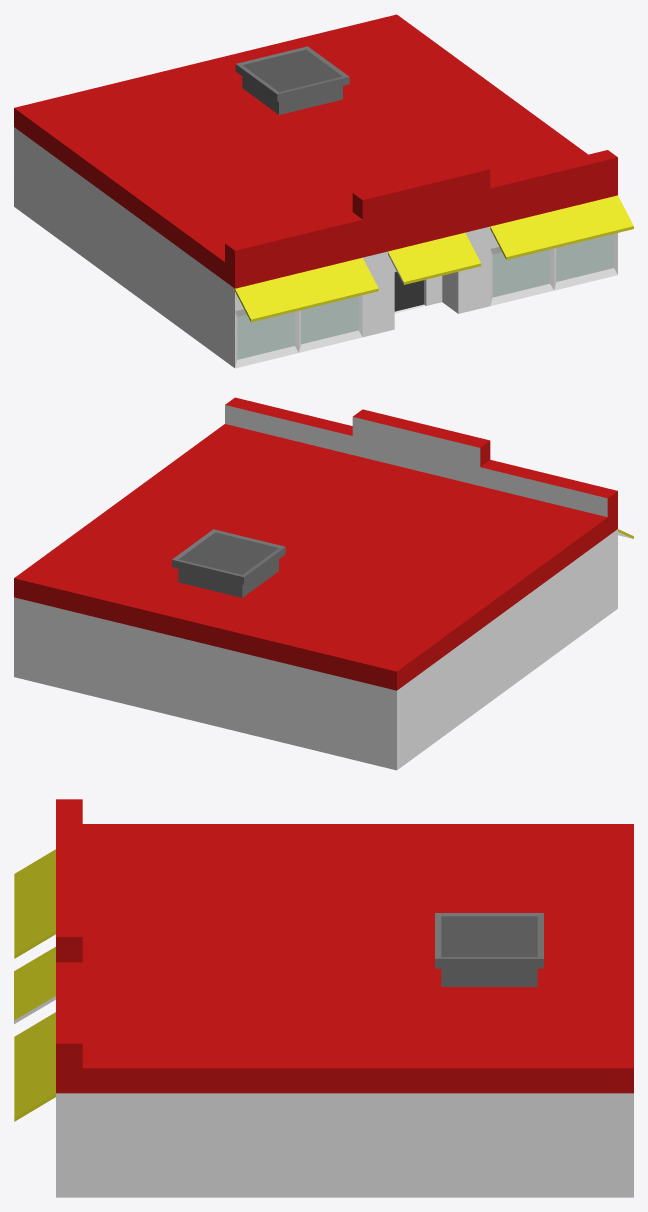
Rendered from storefront_v0.fbx.
3 renders of one model, top to bottom at view 1: azimuth 30°, elevation 25°; view 2: azimuth 150°, elevation 25°; view 3: azimuth 270°, elevation 25°, orthographic. The views are drawn at different scales.
Visible parts, largest first — view 1: pCube1; view 2: pCube1; view 3: pCube1.
Boxes of the visible parts, x1,y1,x2,y2 form: pCube1: [14, 14, 633, 368]; pCube1: [14, 397, 633, 770]; pCube1: [14, 799, 633, 1197].
Size of the model in its own units: 14 by 4.79 by 15.02.
